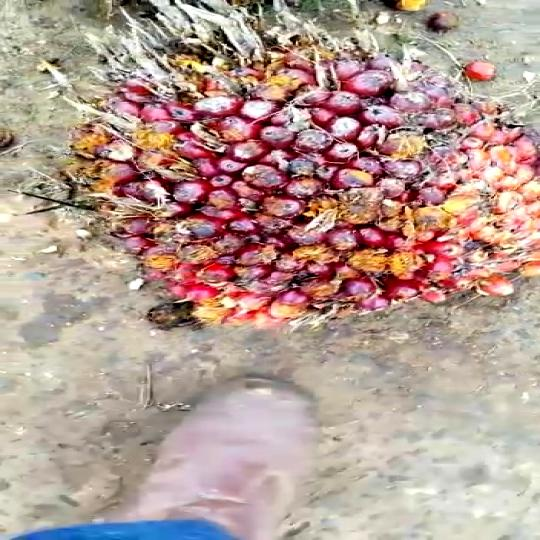masak: (47, 22, 540, 329)
